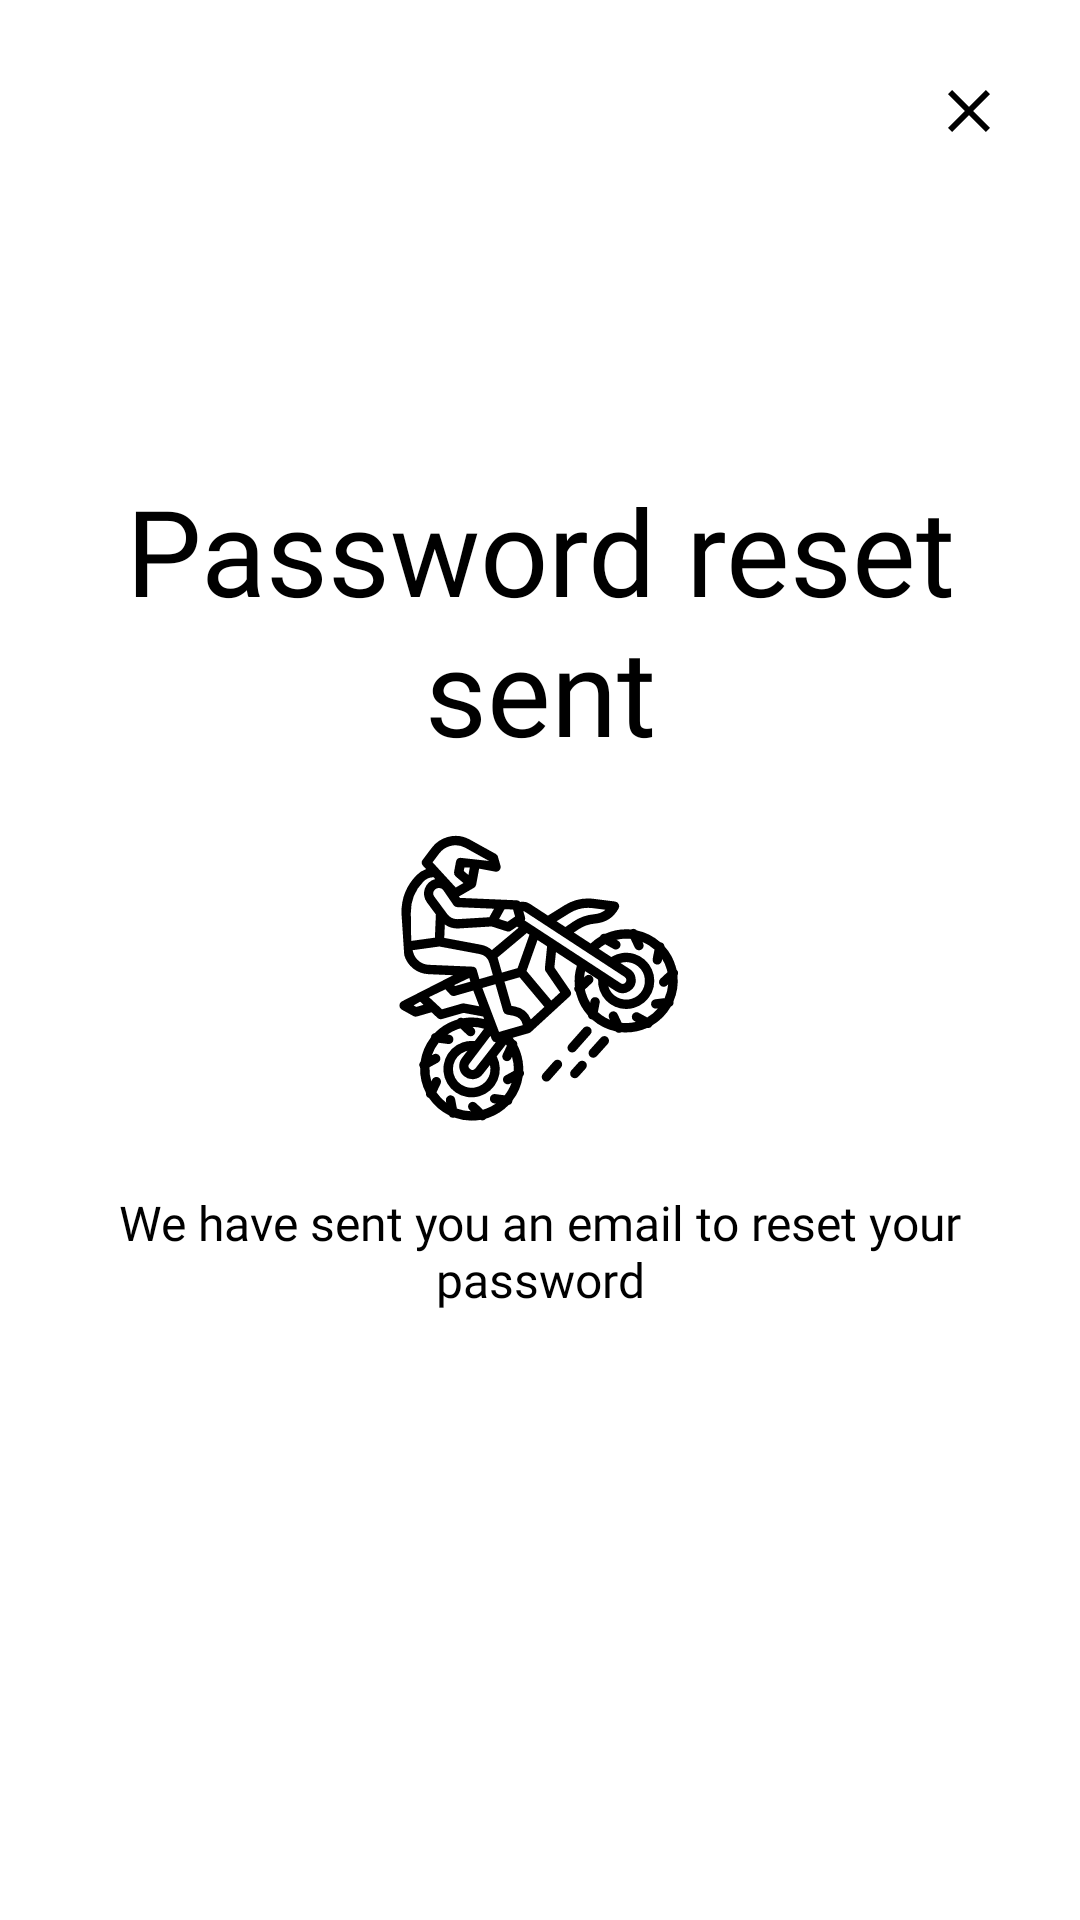

Icons on this 1080x1920 Android screen, each with the point to tap as (x=x, y=y):
close: (x=969, y=111)
